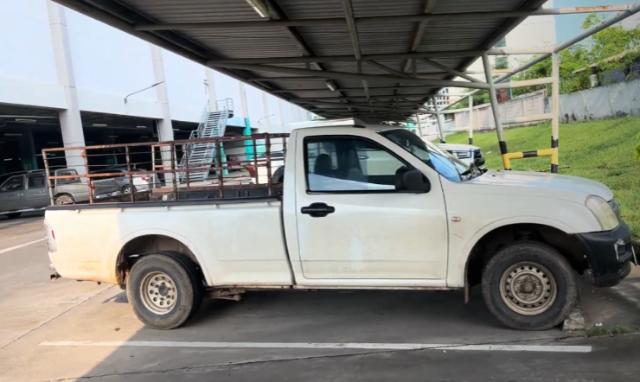pickup-truck: (39, 126, 640, 333)
